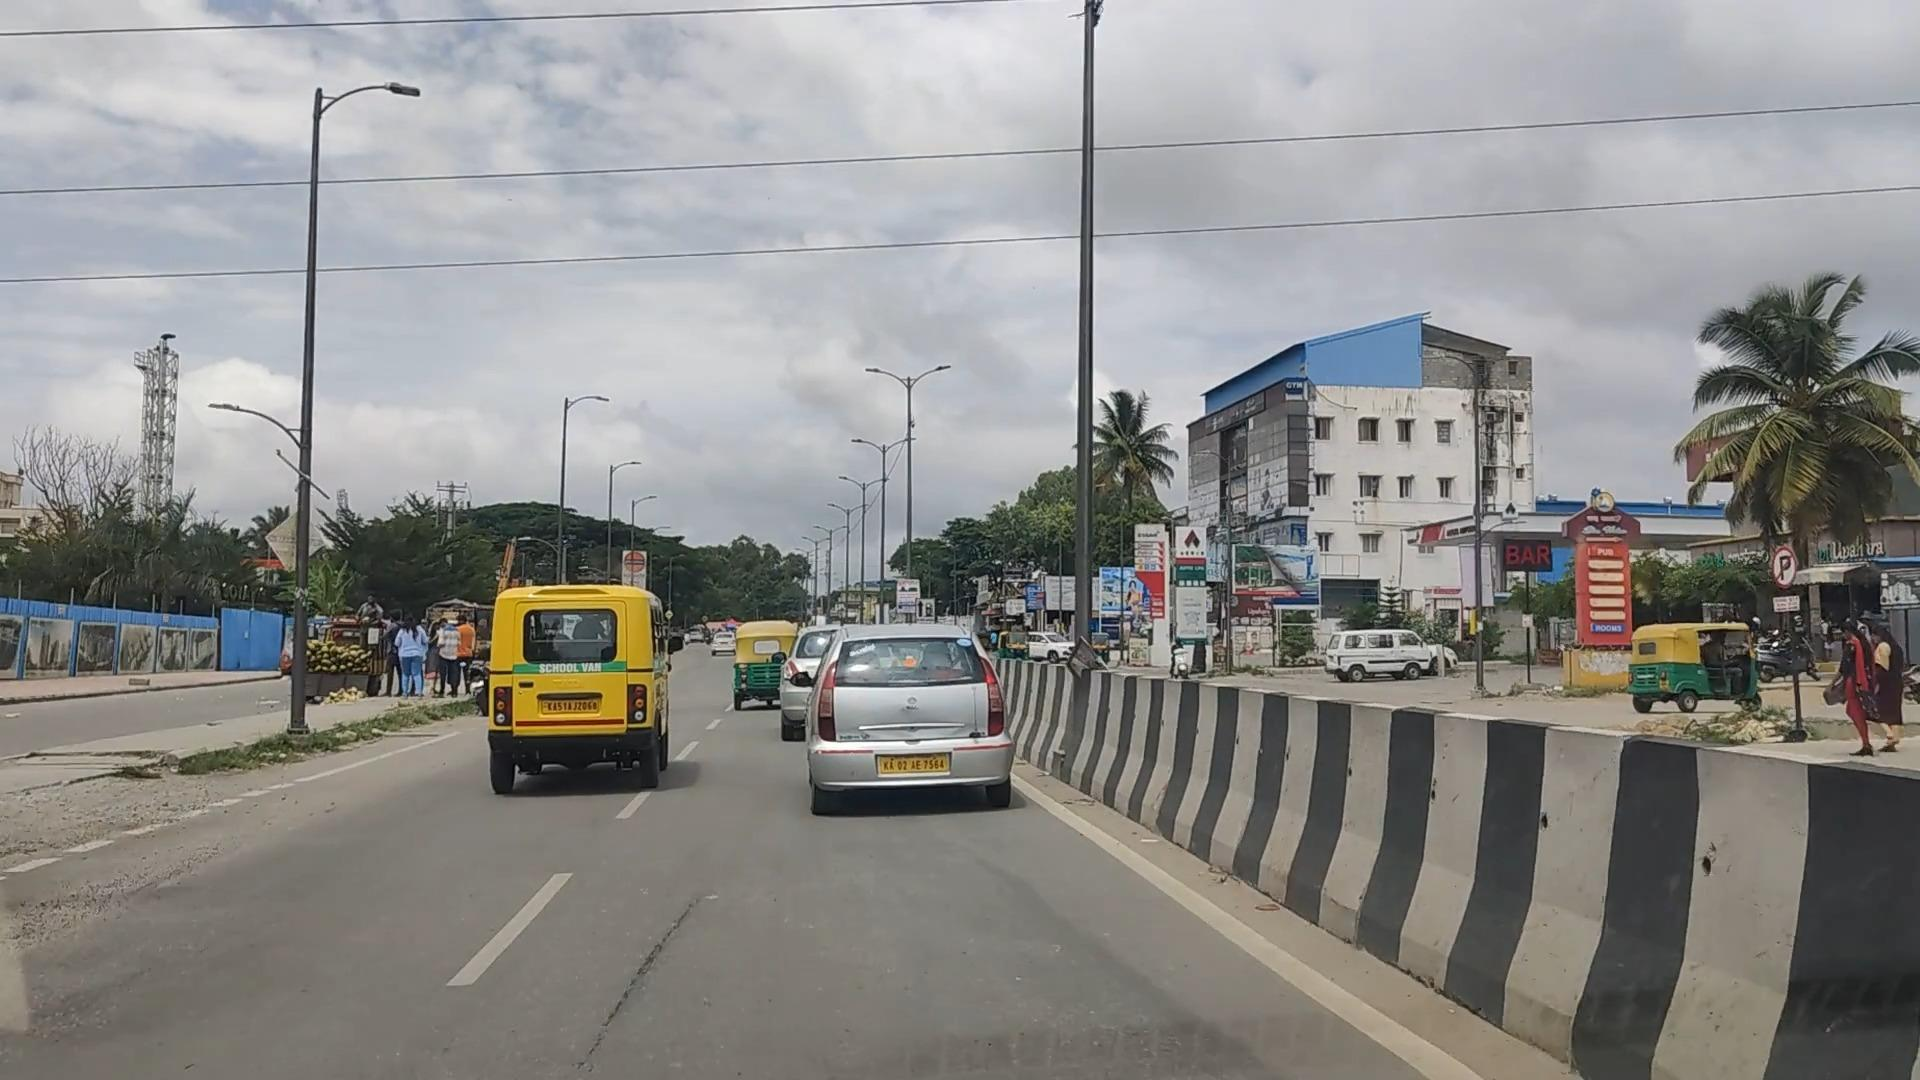LMV: (794, 620, 1025, 820), (475, 583, 687, 799)
